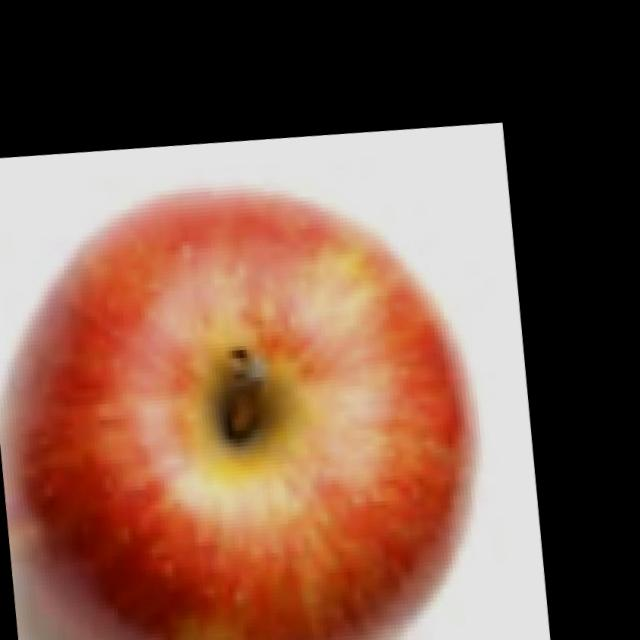Apple: (0, 143, 511, 640)
